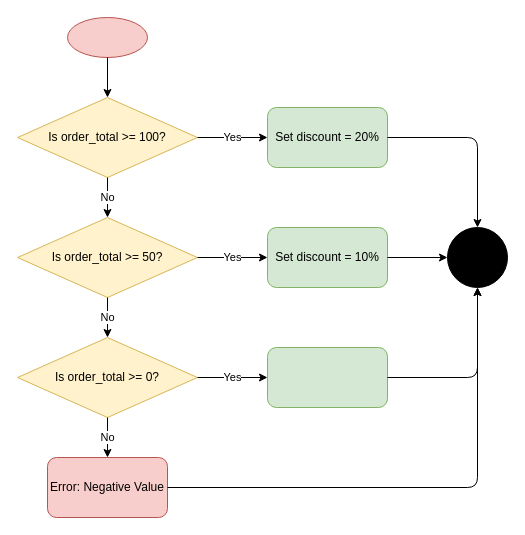
Image size: 525x535. Some labels were removed from this diagram. Here are the shapes that lost their labels. From the top down, the centre of each, then its label:
At (x=107, y=37): "Start".
At (x=477, y=257): "END".
At (x=327, y=377): "Set discount = 0%".
